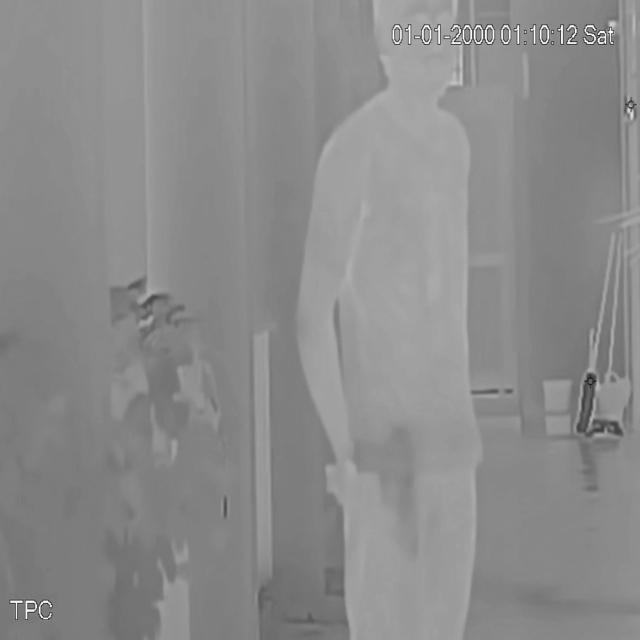Weapon: (354, 422, 438, 565)
